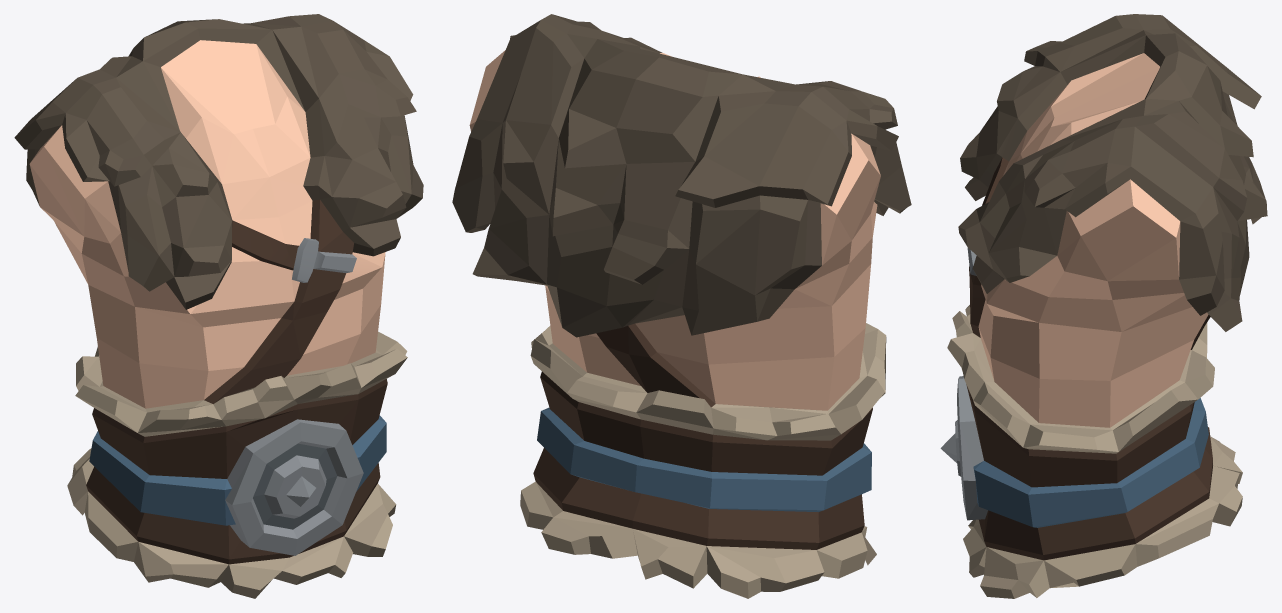
File: Chr_Torso_Male_02_Static.fbx
3 renders of one model, left to right at view 1: azimuth 30°, elevation 25°; view 2: azimuth 150°, elevation 25°; view 3: azimuth 270°, elevation 25°, orthographic. The views are drawn at different scales.
Visible parts, largest first — view 1: Chr_Torso_Male_02_Static; view 2: Chr_Torso_Male_02_Static; view 3: Chr_Torso_Male_02_Static.
Boxes of the visible parts, bbox=[...] form: Chr_Torso_Male_02_Static: bbox=[14, 14, 423, 598]; Chr_Torso_Male_02_Static: bbox=[452, 14, 911, 598]; Chr_Torso_Male_02_Static: bbox=[940, 14, 1267, 598].
Size of the model in its own units: 0.4944 by 0.6905 by 0.4081.
